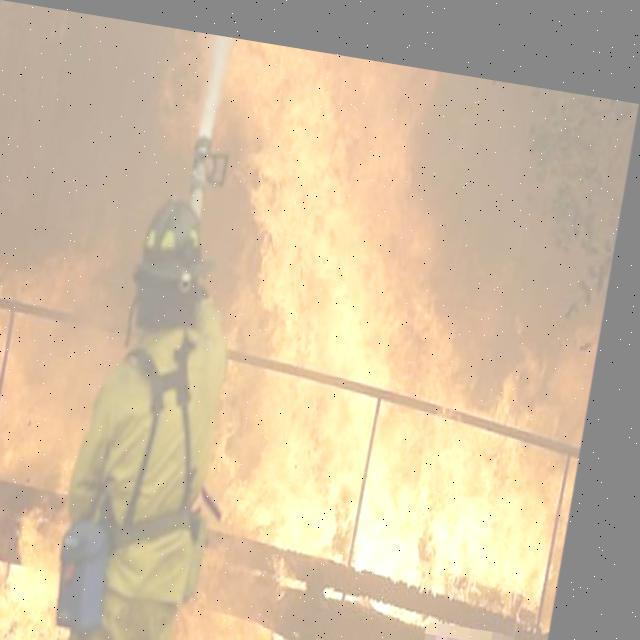Fire: (170, 70, 627, 639), (0, 250, 135, 639)
